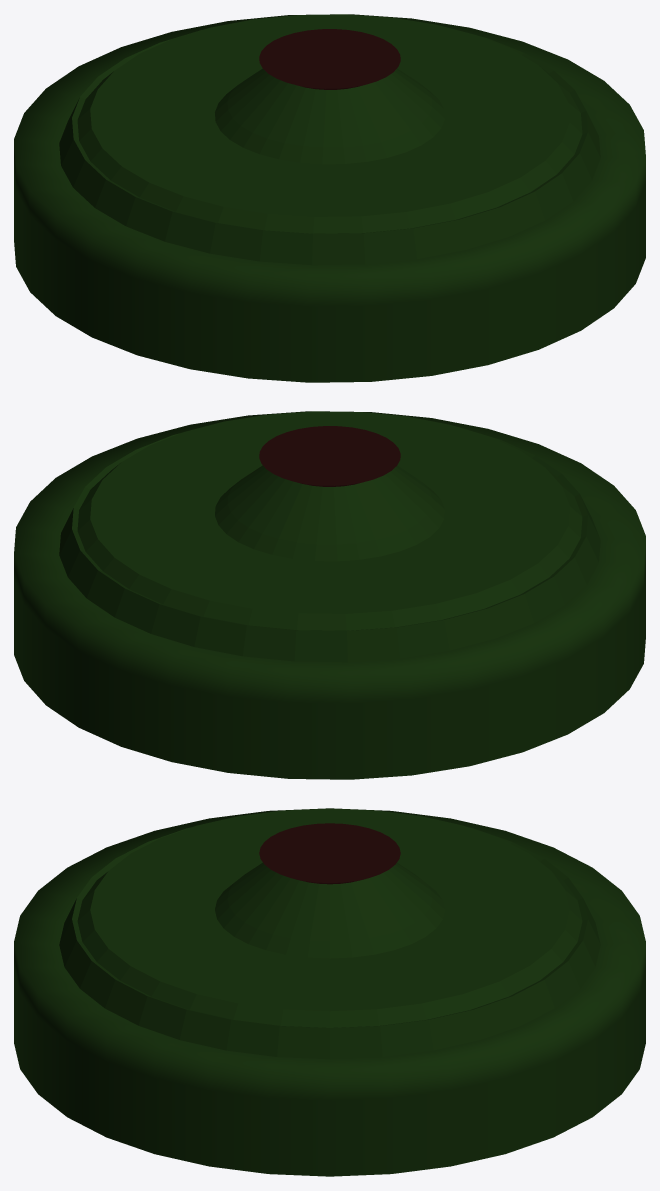
The model's file is mine.fbx.
The picture shows the model from 3 angles, top to bottom: view 1: azimuth 30°, elevation 25°; view 2: azimuth 150°, elevation 25°; view 3: azimuth 270°, elevation 25°; orthographic projection.
Parts seen in each view (by area): view 1: Mine; view 2: Mine; view 3: Mine.
Part boxes in pixels (left/top/right/bottom): Mine: left=14, top=14, right=645, bottom=382; Mine: left=14, top=411, right=645, bottom=779; Mine: left=14, top=808, right=645, bottom=1176.
Bounding box in the file's own units: 4.48 × 1.49 × 4.48.
